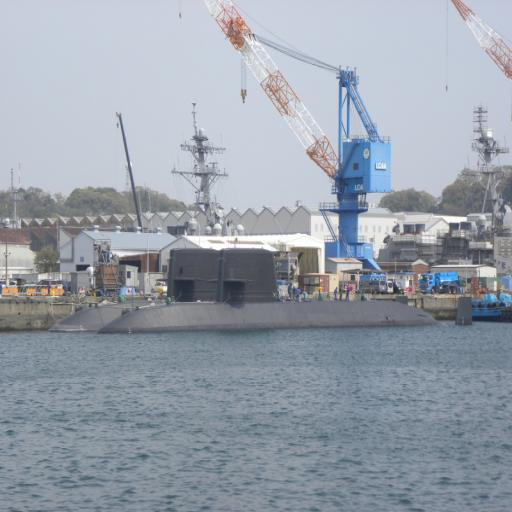submarine: (48, 238, 473, 333), (103, 254, 446, 334)
